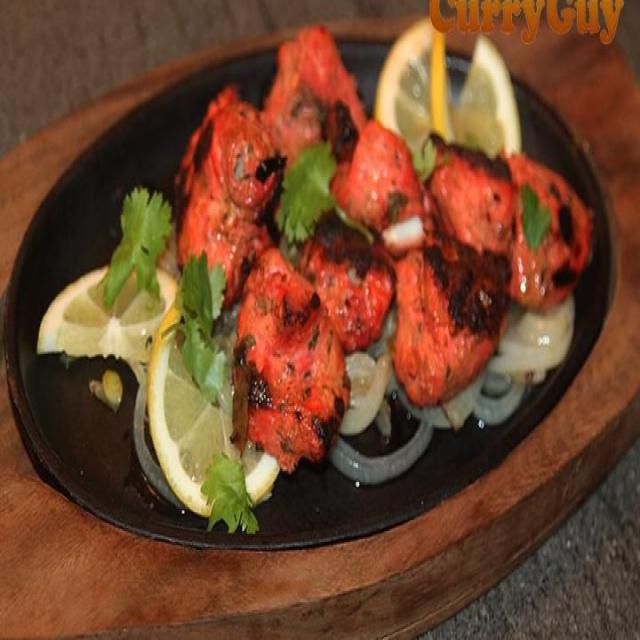Chicken Tikka: (174, 21, 594, 458)
